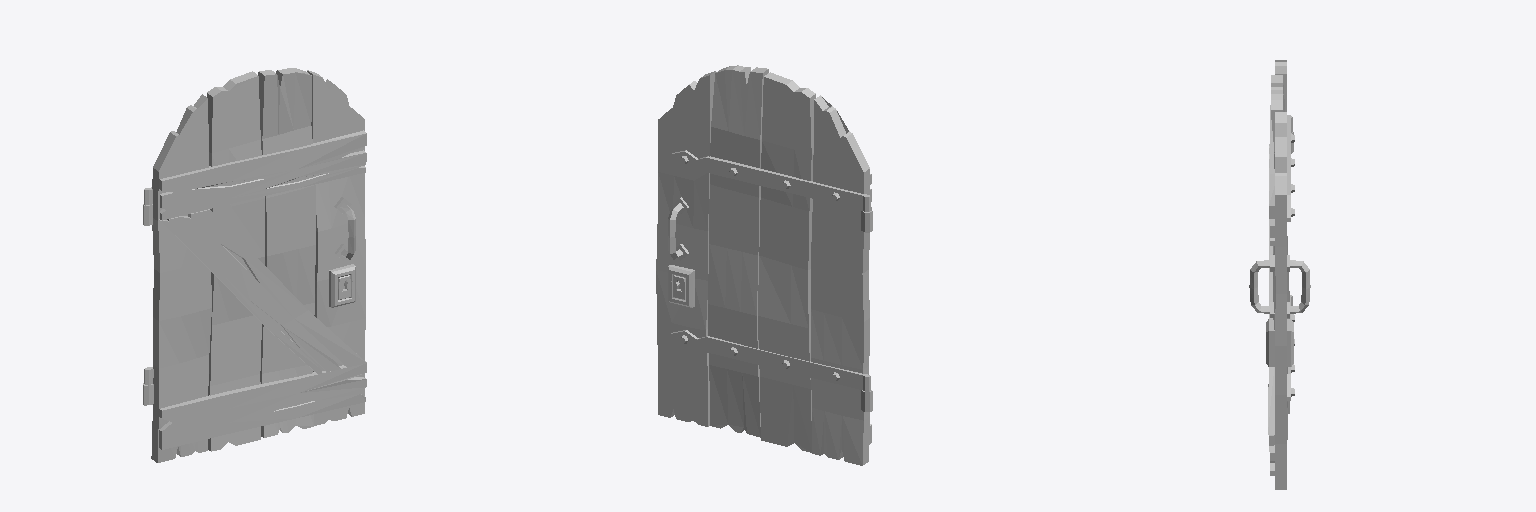
File: Door_Wooden_Left.obj
3 views of the same model, side by side, from view 1: azimuth 30°, elevation 25°; view 2: azimuth 150°, elevation 25°; view 3: azimuth 270°, elevation 25° (orthographic).
Visible parts, largest first — view 1: Door_Wooden_Left; view 2: Door_Wooden_Left; view 3: Door_Wooden_Left.
Boxes of the visible parts, box(x1,y1,x2,y2) form: Door_Wooden_Left: box(143, 68, 366, 462); Door_Wooden_Left: box(656, 65, 872, 465); Door_Wooden_Left: box(1249, 60, 1310, 489).
Size of the model in its own units: 1.34 by 2.17 by 0.3294.